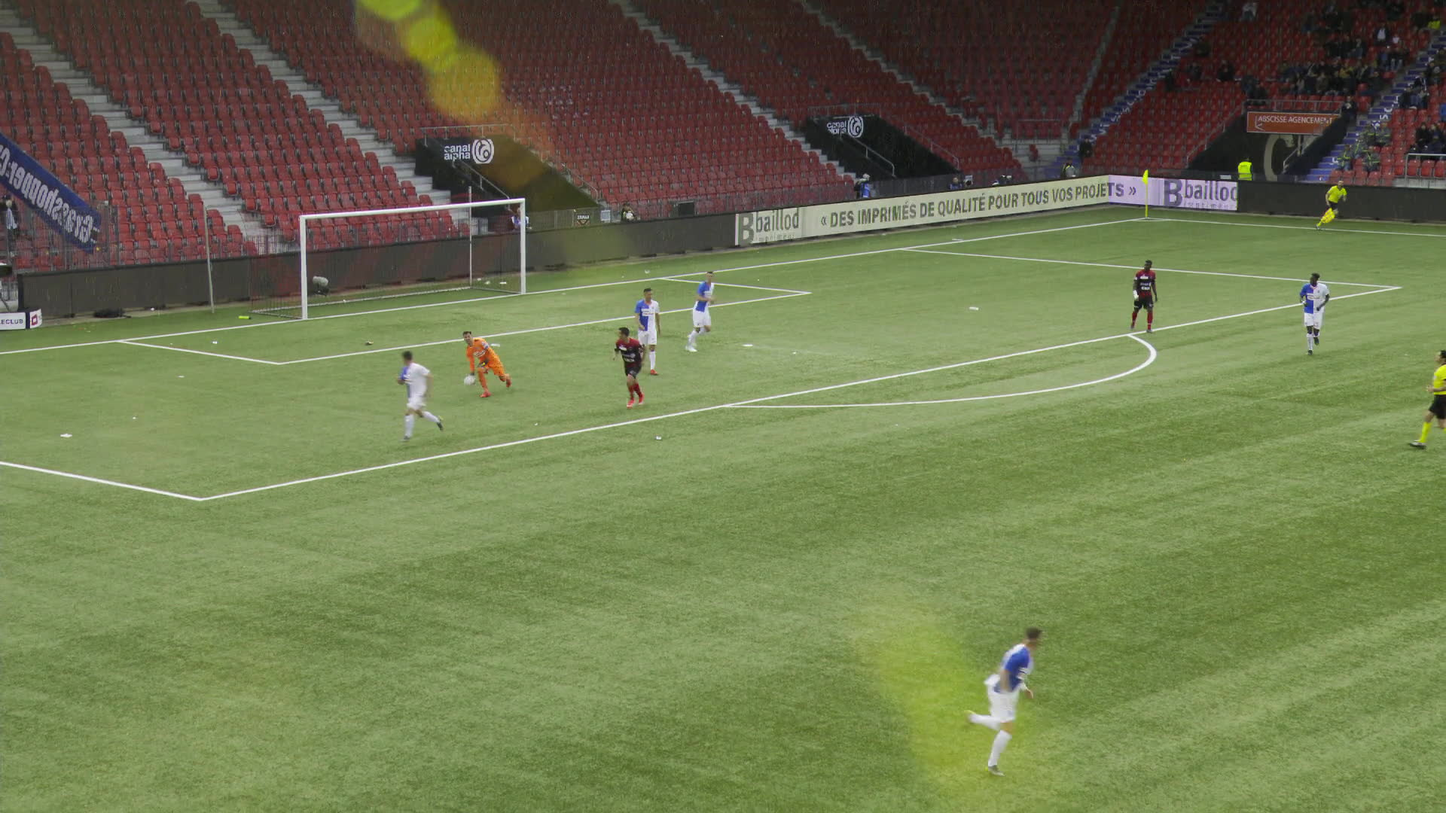ball: (464, 375, 474, 384)
player: (961, 626, 1042, 776), (394, 350, 445, 443), (462, 330, 511, 397), (1295, 273, 1331, 355), (613, 327, 646, 408), (685, 269, 716, 352), (633, 288, 662, 374), (1130, 259, 1159, 333)
referee: (1407, 348, 1445, 448), (1316, 179, 1347, 230)
